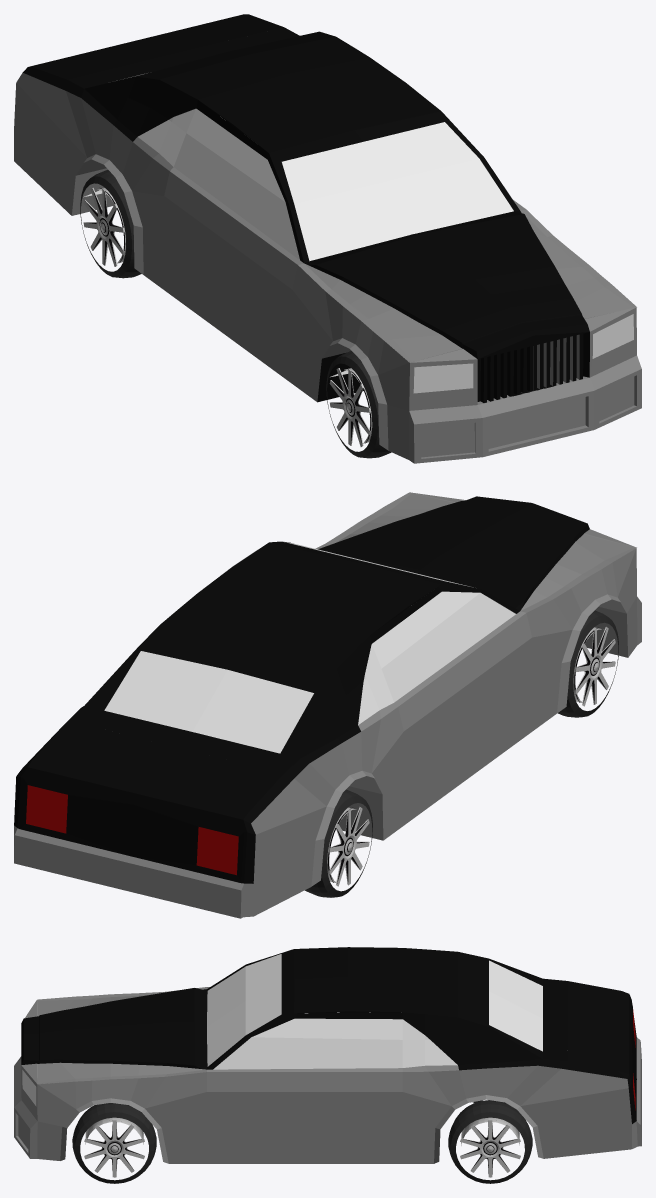
File: car.glb
The picture shows the model from 3 angles, top to bottom: view 1: azimuth 30°, elevation 25°; view 2: azimuth 150°, elevation 25°; view 3: azimuth 270°, elevation 25°; orthographic projection. The views are drawn at different scales.
Visible parts, largest first — view 1: rollsRoyce_Plane.001, wheel1.003_Circle.004, wheel1.002_Circle.003; view 2: rollsRoyce_Plane.001, wheel1.003_Circle.004, wheel1.002_Circle.003; view 3: rollsRoyce_Plane.001, wheel1.001_Circle.002, wheel1_Circle.001.
Boxes of the visible parts, bbox=[...] form: rollsRoyce_Plane.001: bbox=[14, 14, 641, 463]; wheel1.003_Circle.004: bbox=[80, 170, 141, 278]; wheel1.002_Circle.003: bbox=[326, 351, 391, 458]; rollsRoyce_Plane.001: bbox=[14, 492, 641, 918]; wheel1.003_Circle.004: bbox=[305, 789, 372, 897]; wheel1.002_Circle.003: bbox=[558, 610, 618, 717]; rollsRoyce_Plane.001: bbox=[14, 947, 641, 1163]; wheel1.001_Circle.002: bbox=[448, 1100, 532, 1183]; wheel1_Circle.001: bbox=[72, 1103, 156, 1183].
Bounding box in the file's own units: 67.5 × 55.2 × 191.
